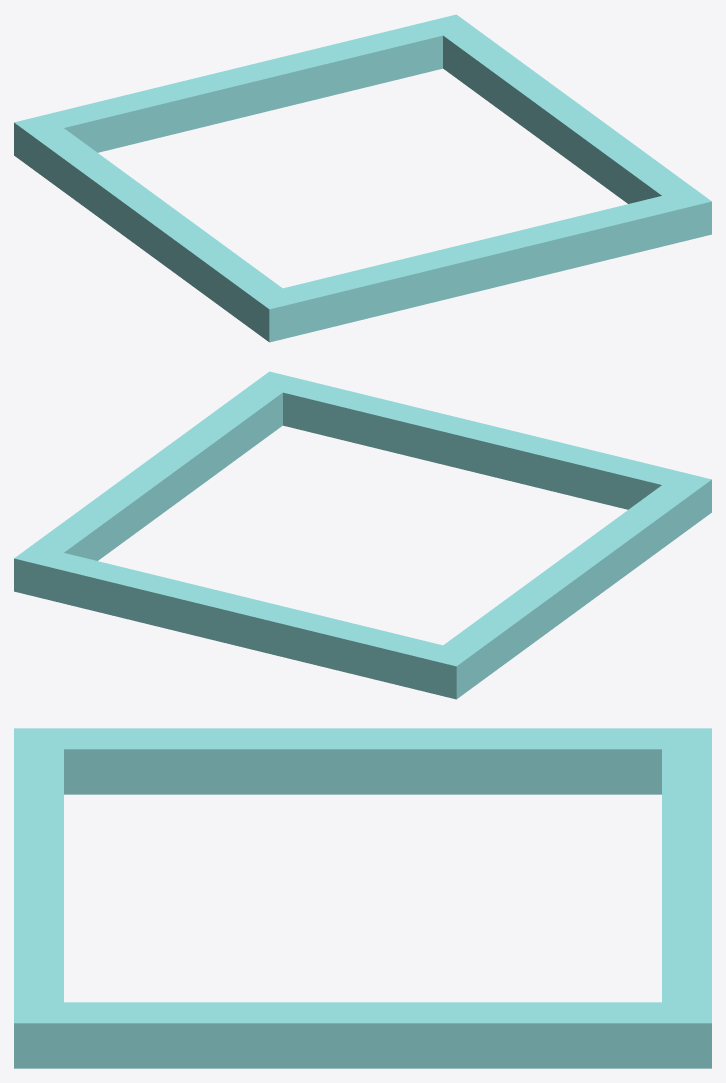
File: platform-0.obj
The picture shows the model from 3 angles, top to bottom: view 1: azimuth 30°, elevation 25°; view 2: azimuth 150°, elevation 25°; view 3: azimuth 270°, elevation 25°; orthographic projection. The views are drawn at different scales.
Bounding box in the file's own units: 1.4 × 0.1 × 1.4.
1 material, 1 textured.
